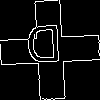D: (25, 25, 63, 72)
